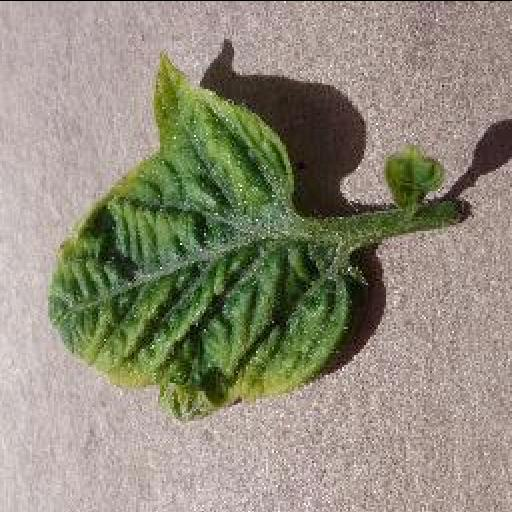disease_tomato: (48, 48, 348, 418)
